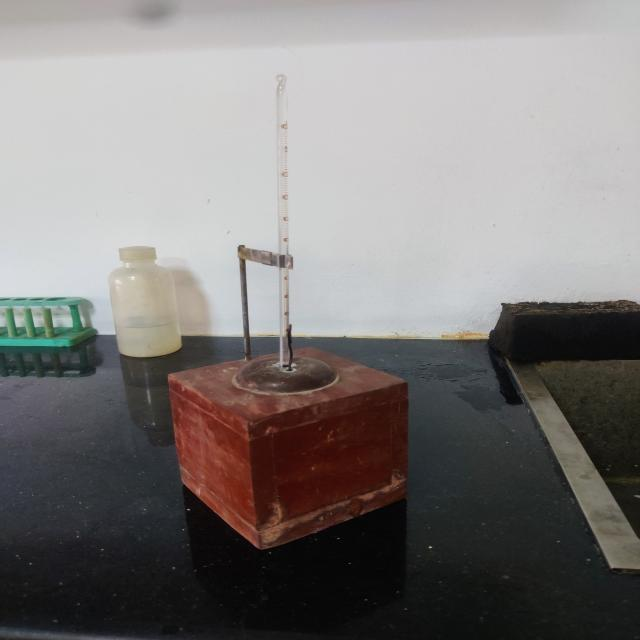Calorimeter: (131, 44, 471, 583)
